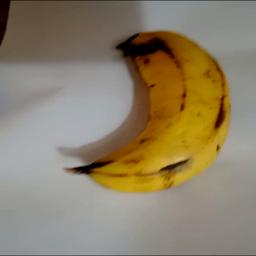Banana Unripe: (72, 32, 234, 194)
